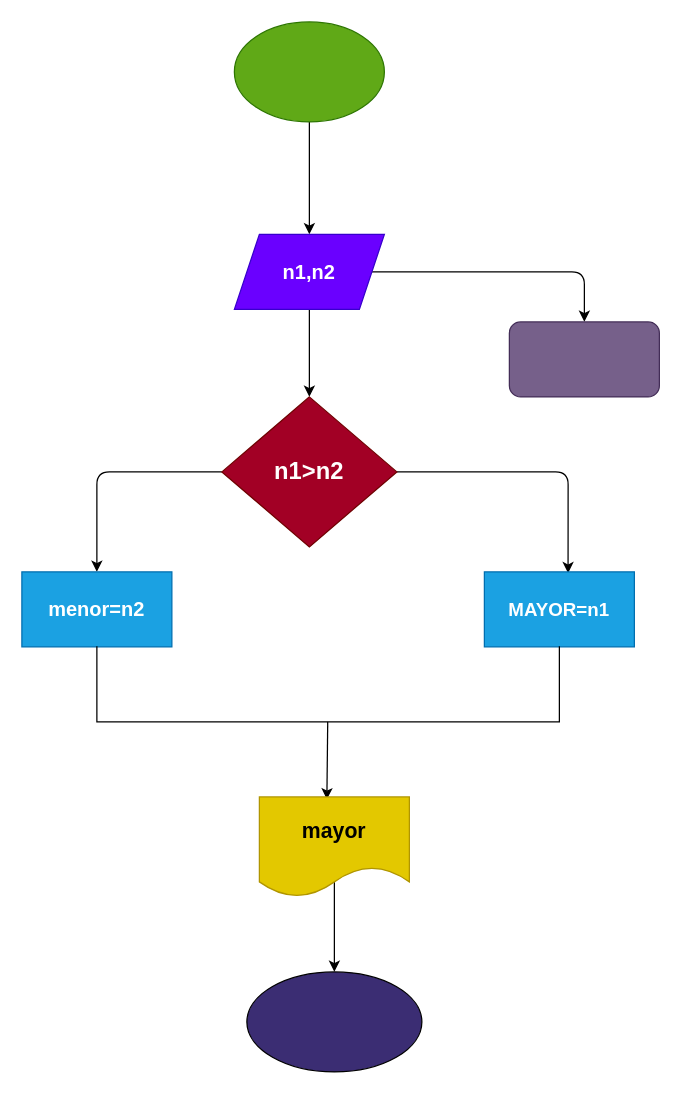
Some shapes in this 681 by 1094 pixel diagram are drawn without their labels. Here are the shapes that lost their labels. From the top down, the centre of each, then its label:
At (308,71): "inicio".
At (583,359): "Son iguales".
At (334,1021): "Fin".
